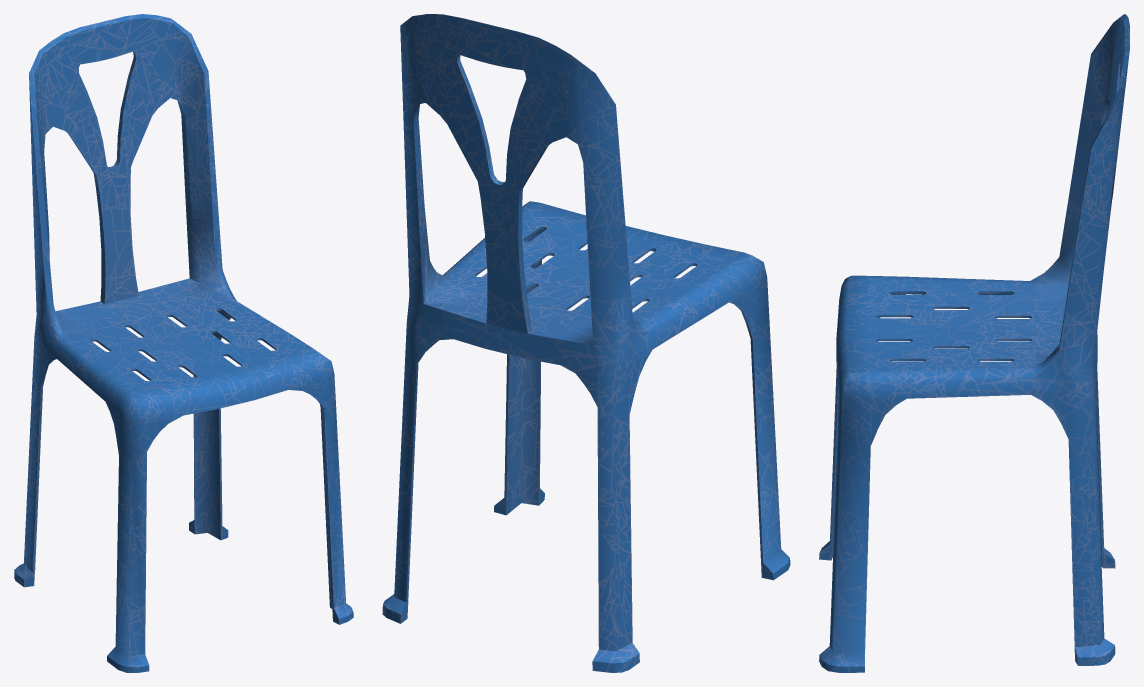
Rendered from chair.fbx.
3 views of the same model, side by side, from view 1: azimuth 30°, elevation 25°; view 2: azimuth 150°, elevation 25°; view 3: azimuth 270°, elevation 25° (orthographic). The views are drawn at different scales.
Parts seen in each view (by area): view 1: Plane; view 2: Plane; view 3: Plane.
Boxes of the visible parts, x1,y1,x2,y2 form: Plane: (14, 14, 353, 672); Plane: (382, 14, 790, 672); Plane: (819, 14, 1129, 672).
Bounding box in the file's own units: 55.82 × 119 × 58.57.
1 material, 1 textured.
